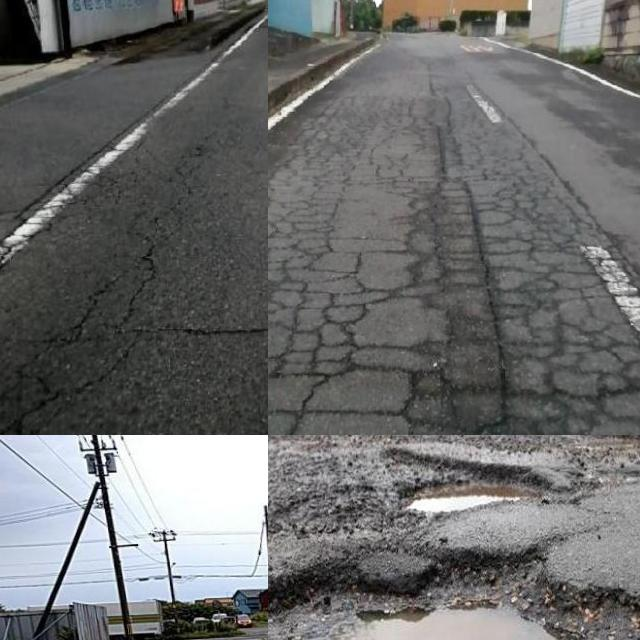Lubang: (268, 557, 640, 640), (401, 474, 553, 516)
Melintang: (136, 314, 268, 348)
Retak Buaya: (268, 87, 640, 435)
